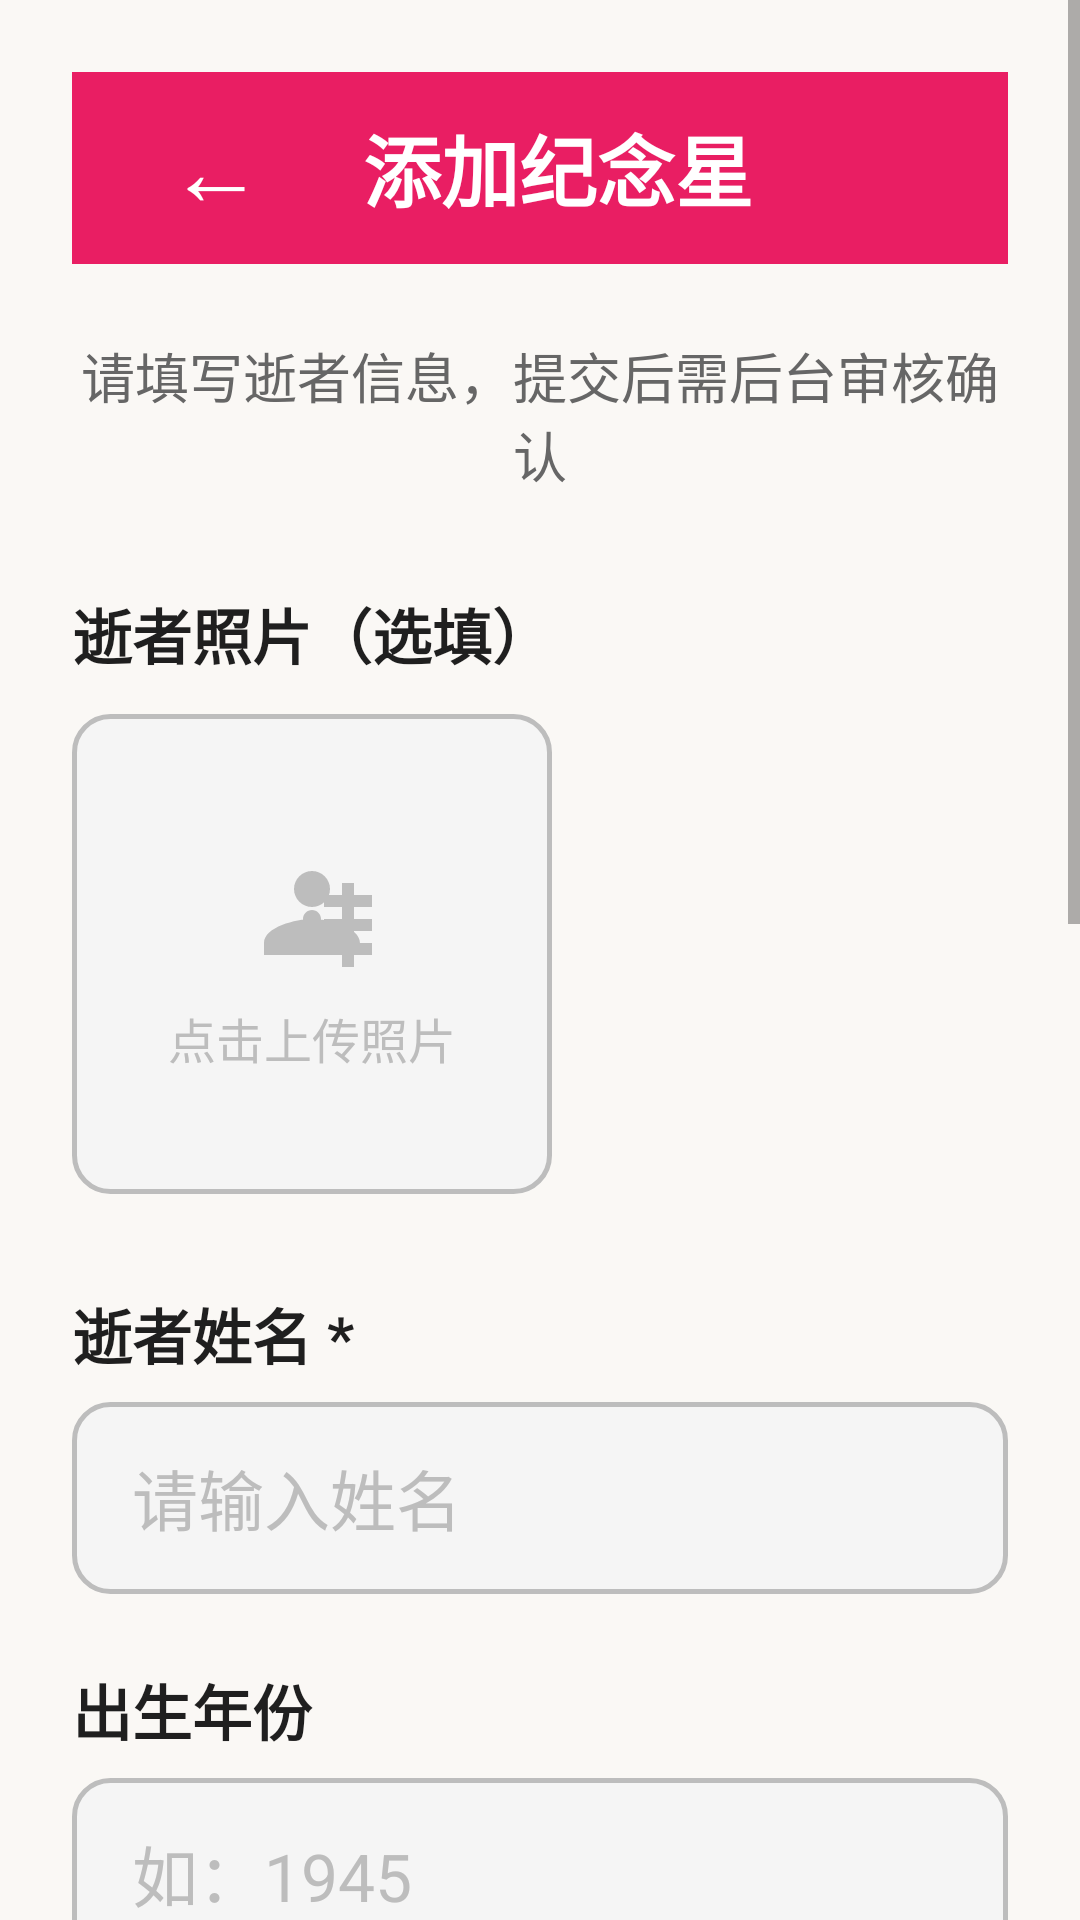

Point at icon controls on the screen. Image size 1080 × 1920, points as (x=x, y=y).
add person: (x=318, y=919)
